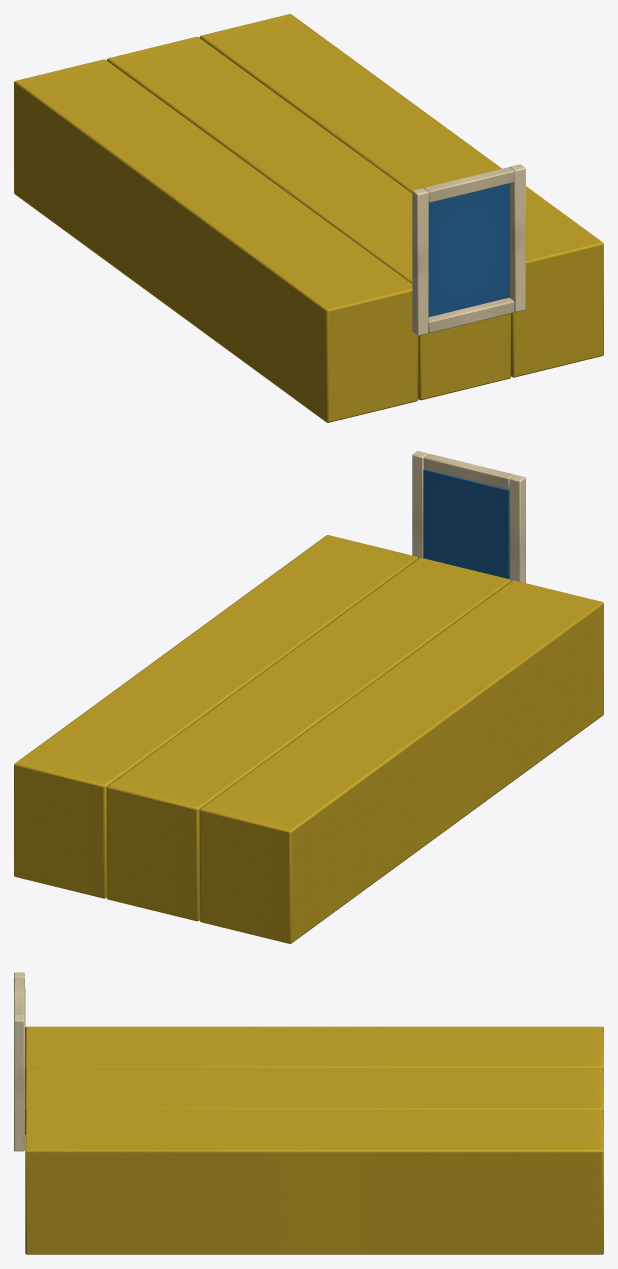
Rendered from 9-right-toy-leg-course-1-1.fbx.
3 renders of one model, top to bottom at view 1: azimuth 30°, elevation 25°; view 2: azimuth 150°, elevation 25°; view 3: azimuth 270°, elevation 25°, orthographic. The views are drawn at different scales.
Parts seen in each view (by area): view 1: right-toy-leg-course-1-1; view 2: right-toy-leg-course-1-1; view 3: right-toy-leg-course-1-1.
Part boxes in pixels (x1,y1,x2,y2): right-toy-leg-course-1-1: (14, 14, 603, 422); right-toy-leg-course-1-1: (14, 451, 603, 943); right-toy-leg-course-1-1: (14, 972, 603, 1254).
Size of the model in its own units: 4085 by 3000 by 8155.
1 material, 1 textured.
